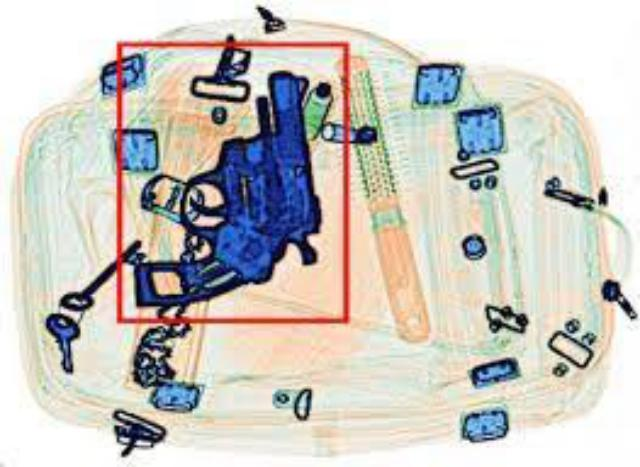Gun: (130, 65, 324, 306)
